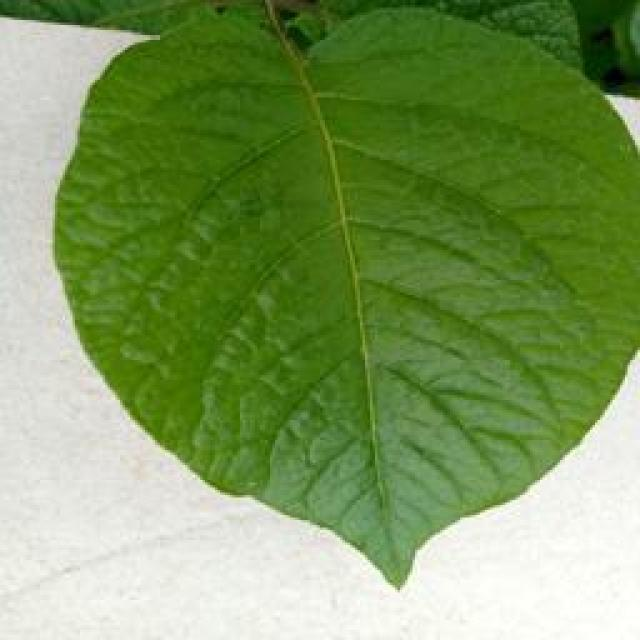healthy: (44, 0, 637, 592)
